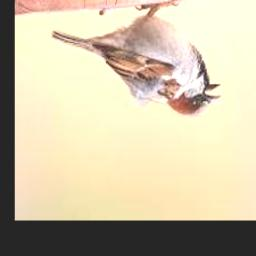Sparrow: (52, 0, 222, 118)
